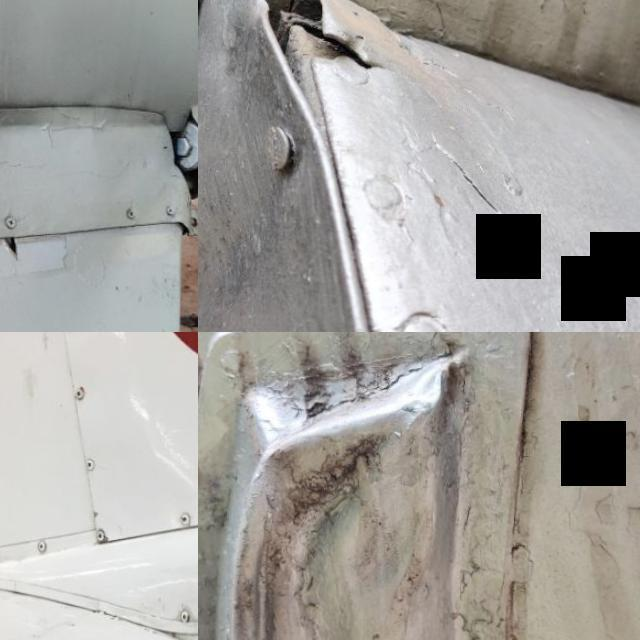Crack: (281, 0, 400, 99), (3, 332, 65, 449), (82, 494, 142, 553), (0, 225, 33, 272)
Dent: (198, 332, 508, 640)
